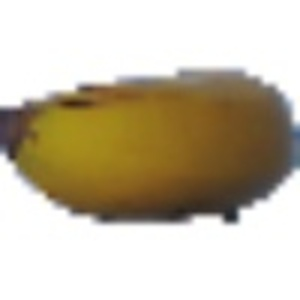banana: (1, 55, 297, 234)
